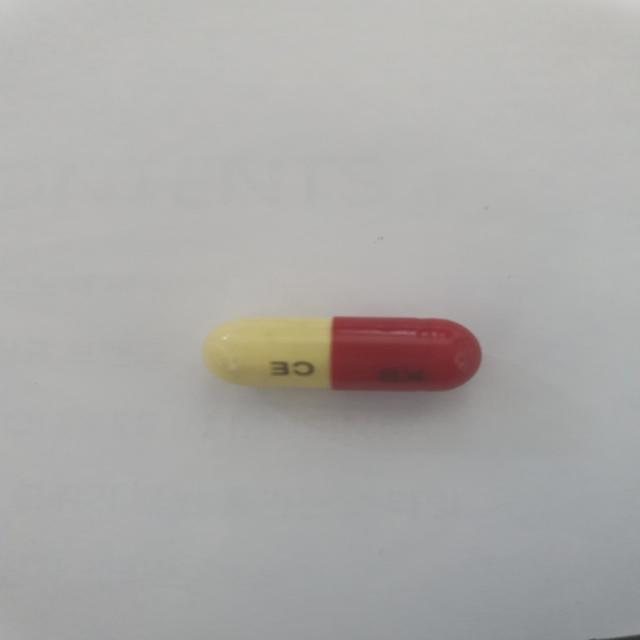pill: (201, 301, 482, 396)
